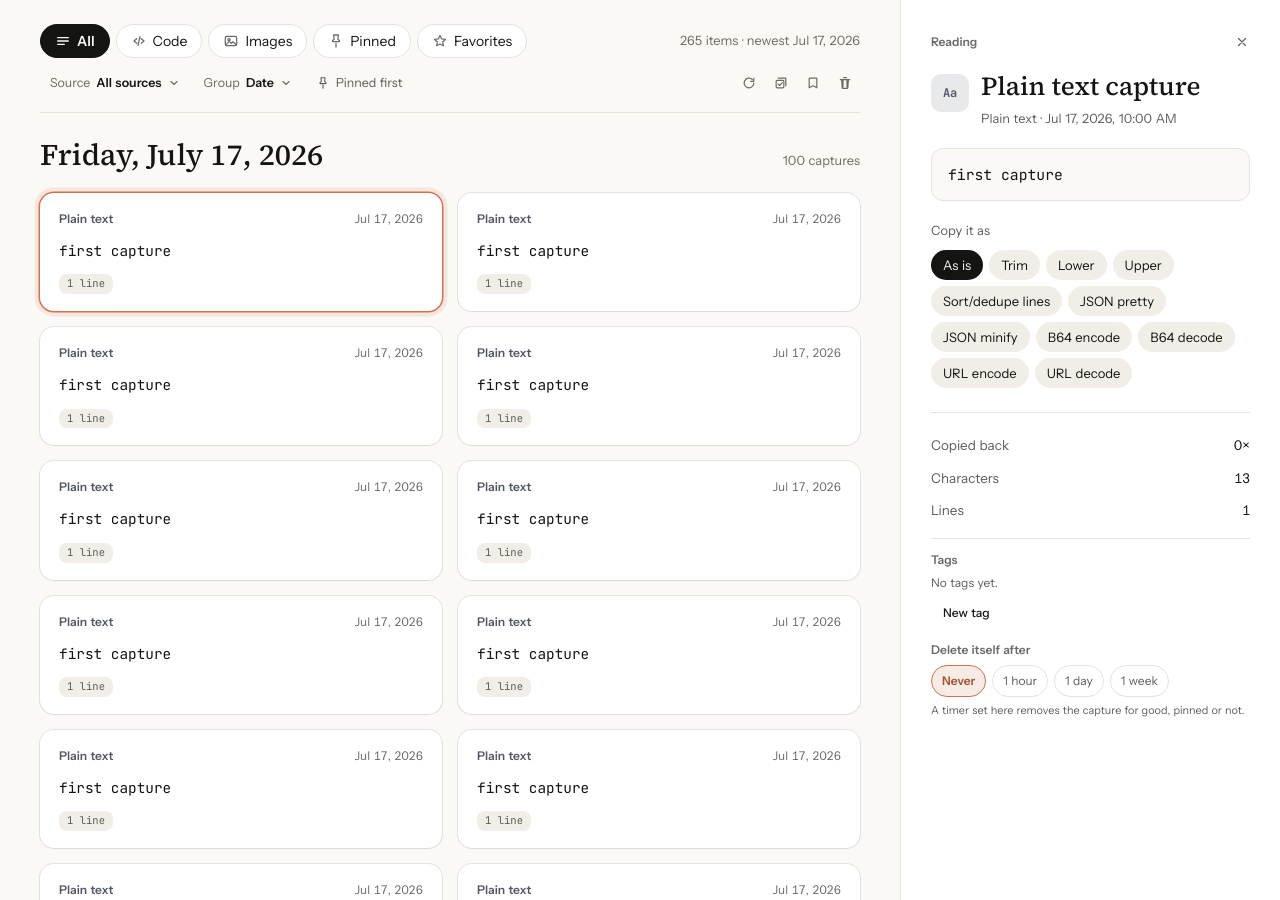
Test: ClipboardPage › counts group headings against the current page only
Click the button "Group Date": [248, 83] box [194,68,302,98]
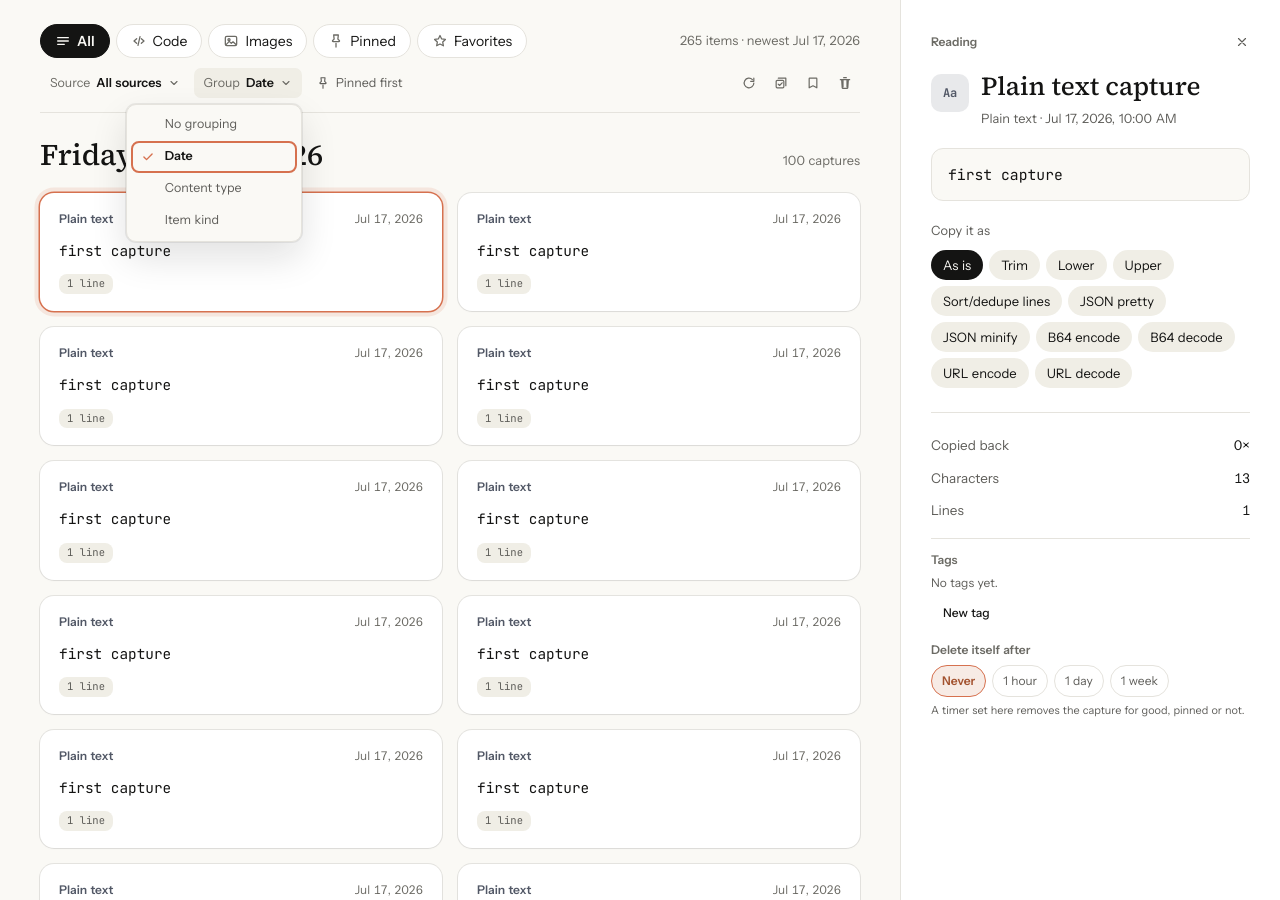
Click the menu item "Item kind": [214, 221] box [131,205,297,237]
(page scrolled)
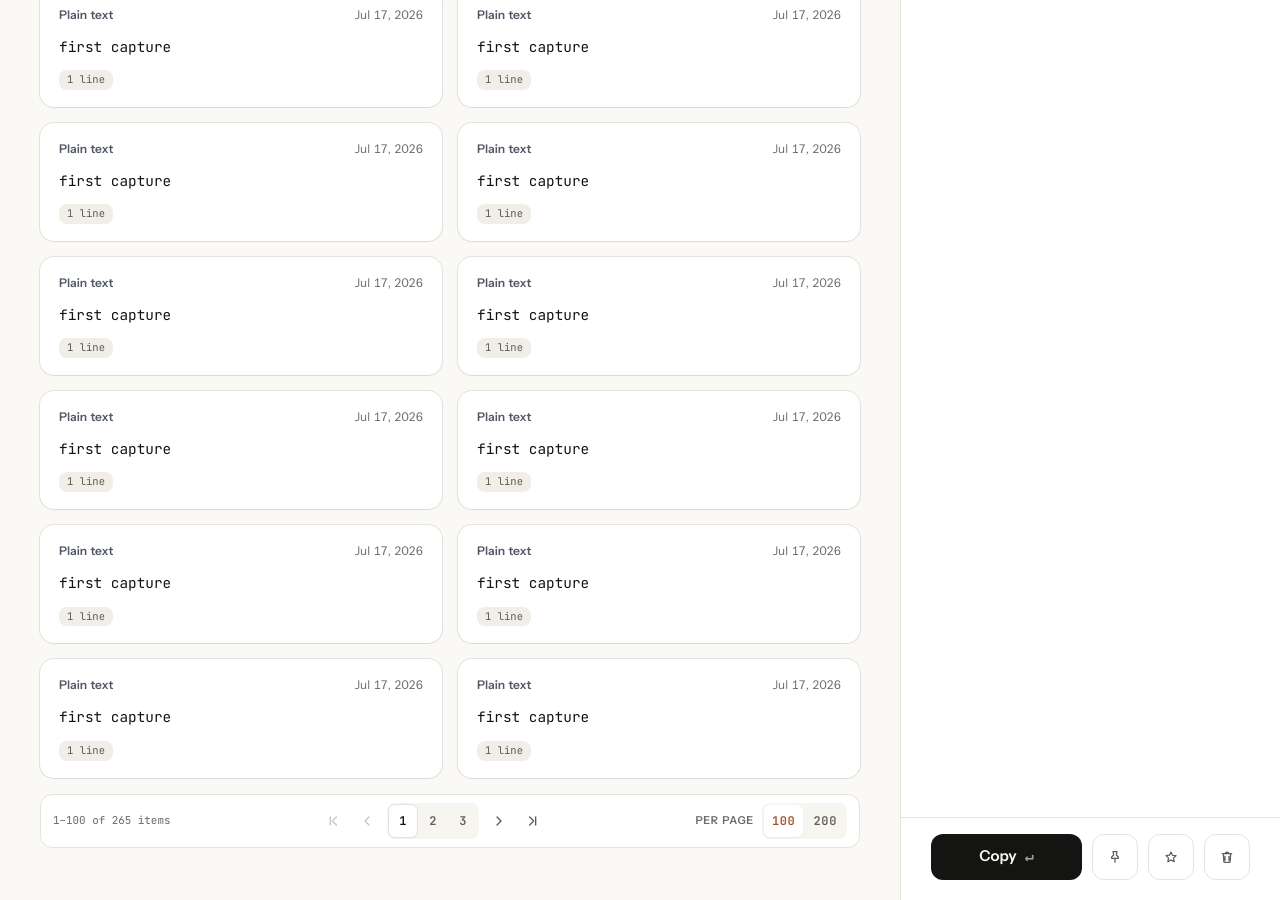
Click the button named "Last page": [533, 821] box [519,805,547,837]
(page scrolled)
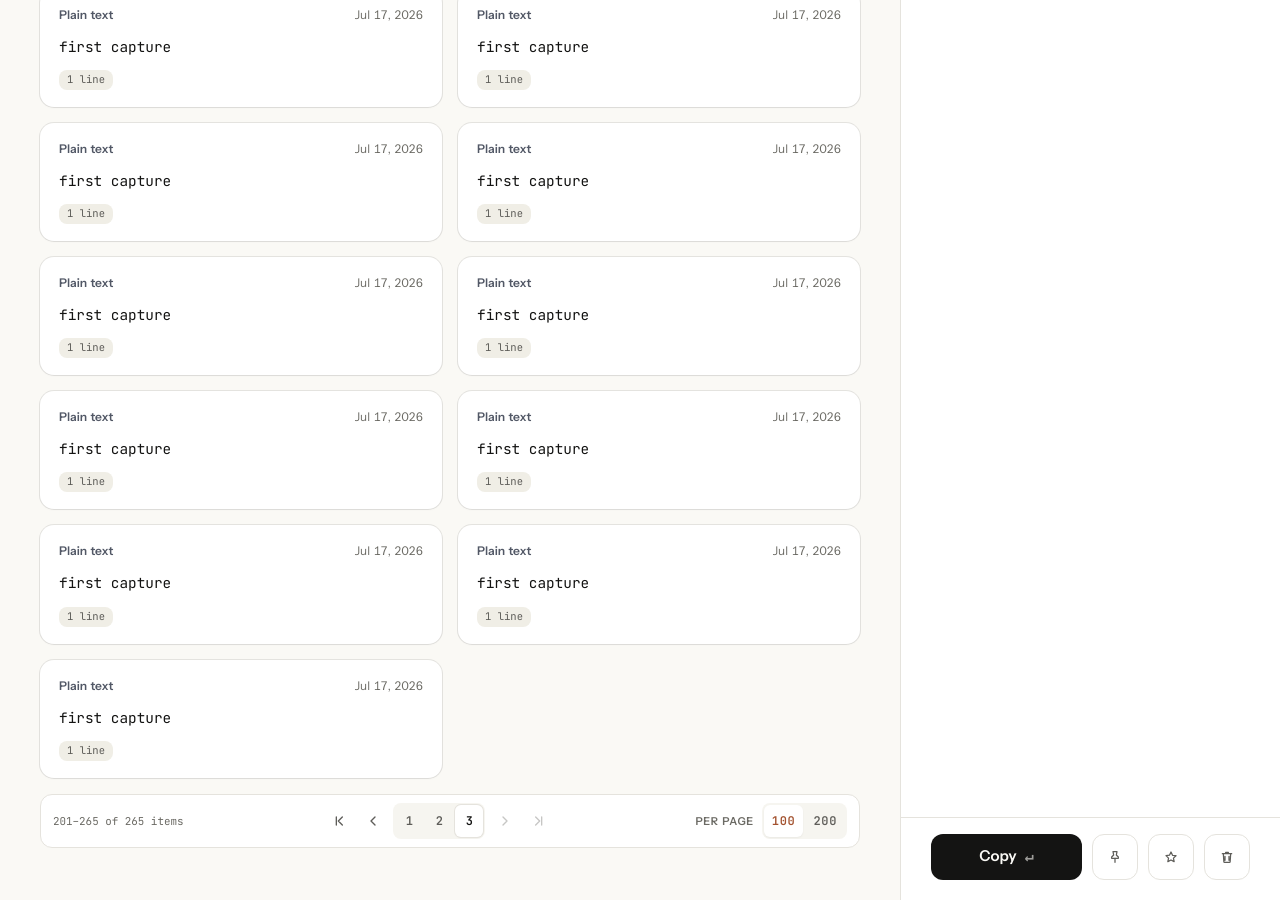
Check: the text "201–265 of 265 items" is shown, box [53,812,184,829]
